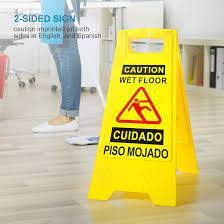wet caution sign: (84, 12, 184, 209)
